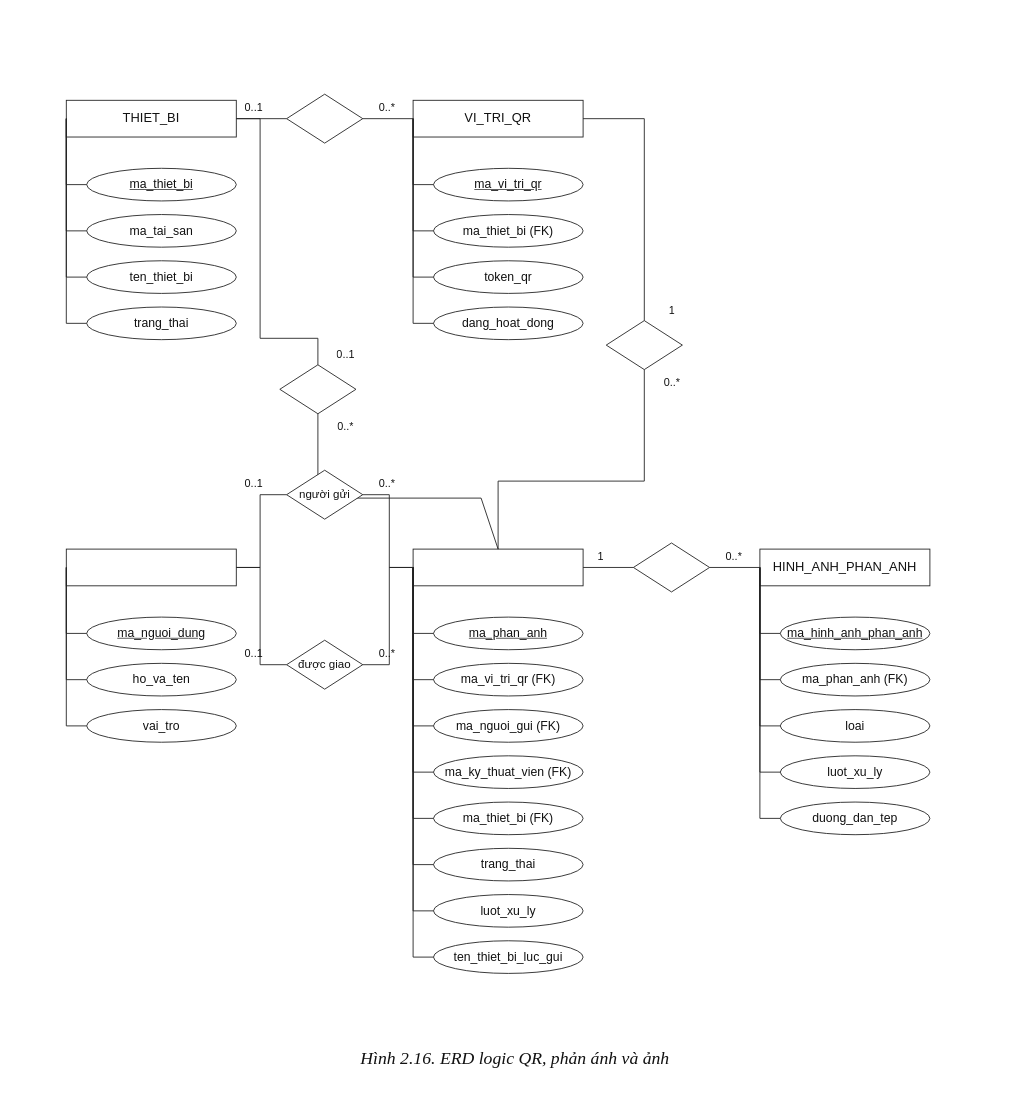
This 1030x1104 diagram has some shape labels left out. The shapes that lost their labels are listed below. From the top down, each one's centre as x and y in pixels, then its label:
point 324,118: liên kết
point 644,345: tiếp nhận
point 317,389: lúc gửi
point 151,567: NGUOI_DUNG
point 497,567: PHAN_ANH
point 671,567: có ảnh
